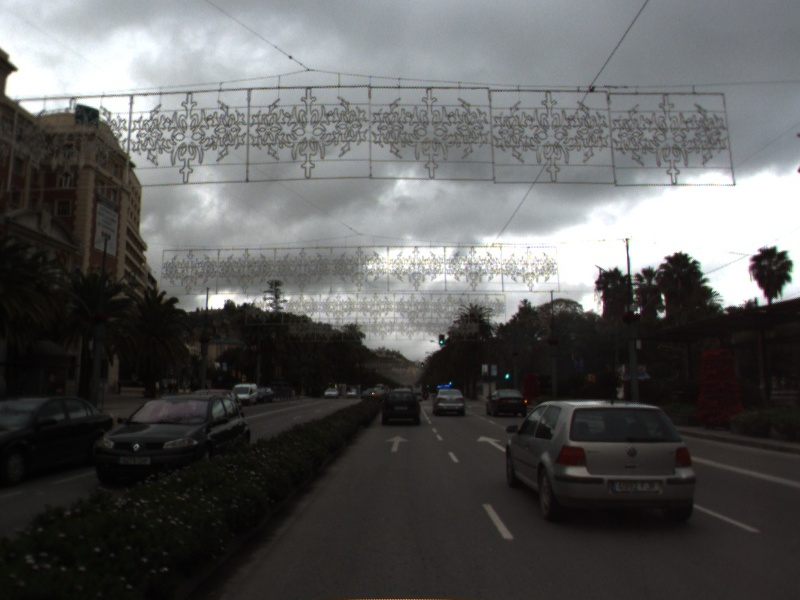STRAIGHT: (475, 434, 508, 453), (384, 433, 412, 454)
